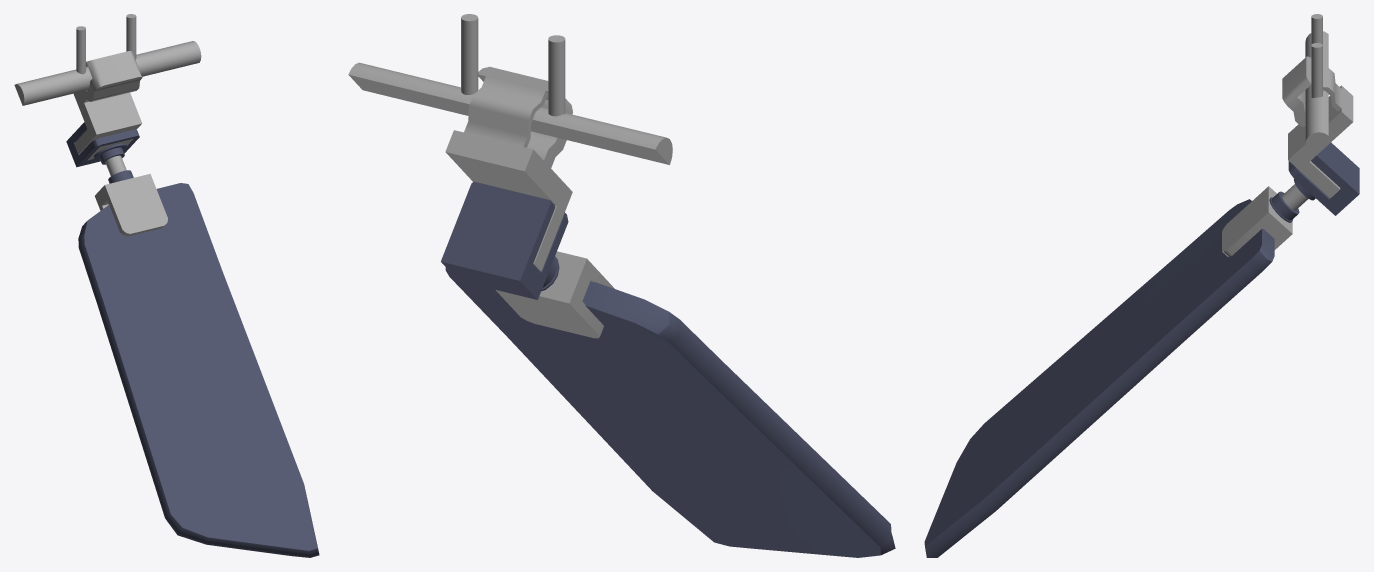
File: SM_flying_ship_wing.fbx
3 renders of one model, left to right at view 1: azimuth 30°, elevation 25°; view 2: azimuth 150°, elevation 25°; view 3: azimuth 270°, elevation 25°, orthographic. The views are drawn at different scales.
Visible parts, largest first — view 1: Flying_ship_wing; view 2: Flying_ship_wing; view 3: Flying_ship_wing.
Part boxes in pixels (<box>): Flying_ship_wing: <box>14,14,319,557</box>; Flying_ship_wing: <box>348,14,895,557</box>; Flying_ship_wing: <box>924,14,1359,557</box>.
Size of the model in its own units: 183 by 420 by 330.
